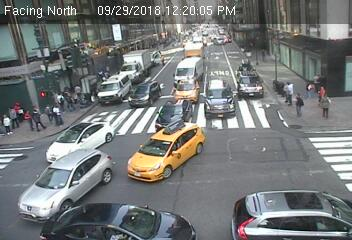car: (227, 186, 352, 240), (16, 153, 112, 218), (42, 203, 199, 240), (126, 121, 204, 182), (46, 118, 112, 161), (201, 78, 238, 118), (154, 99, 192, 129), (174, 54, 205, 87), (128, 79, 163, 108), (96, 73, 131, 102), (119, 49, 151, 80), (237, 70, 264, 99), (173, 76, 199, 104), (182, 43, 204, 58), (212, 35, 224, 45)
